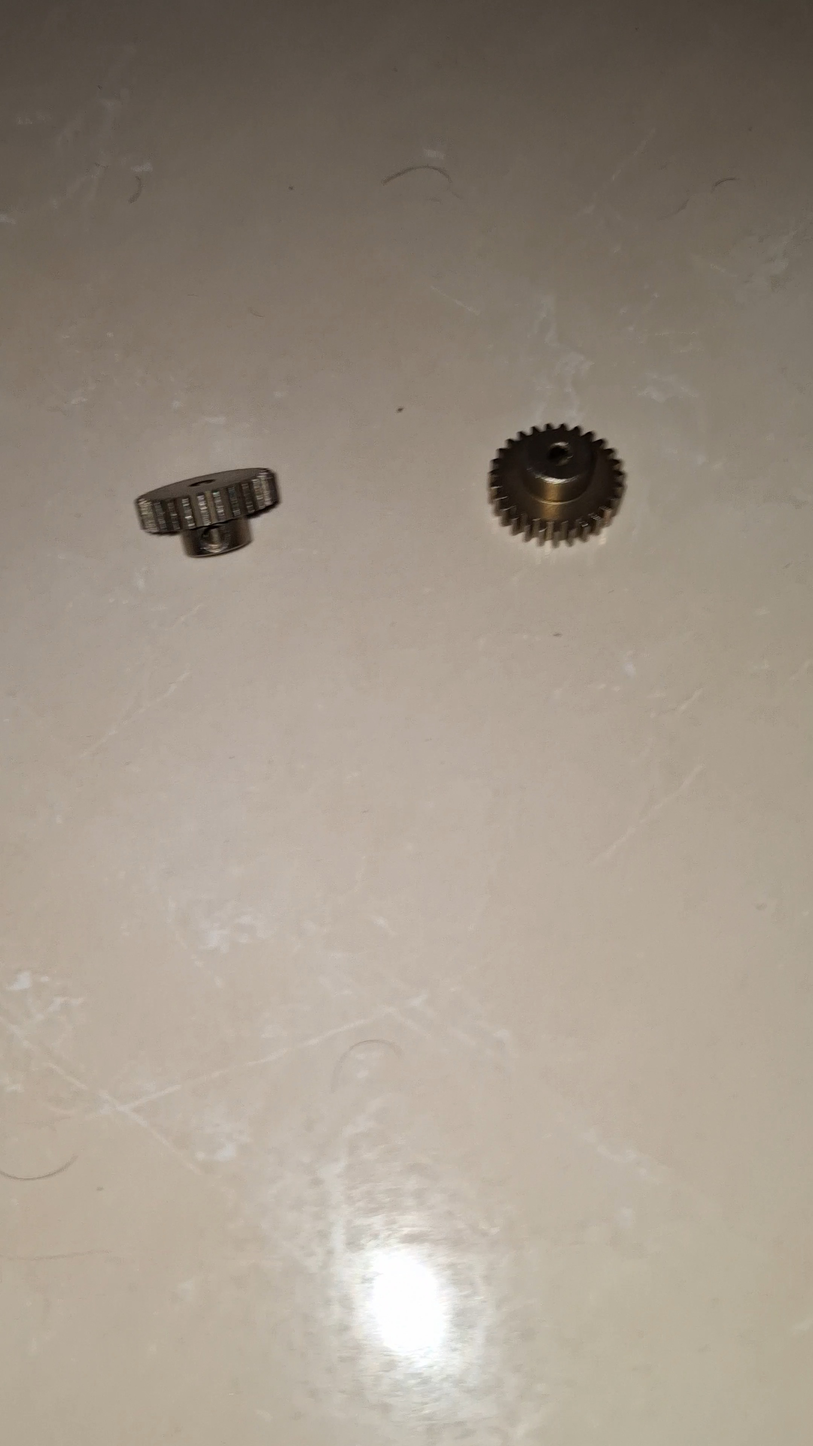spur gear: (489, 425, 624, 544), (136, 468, 278, 557)
